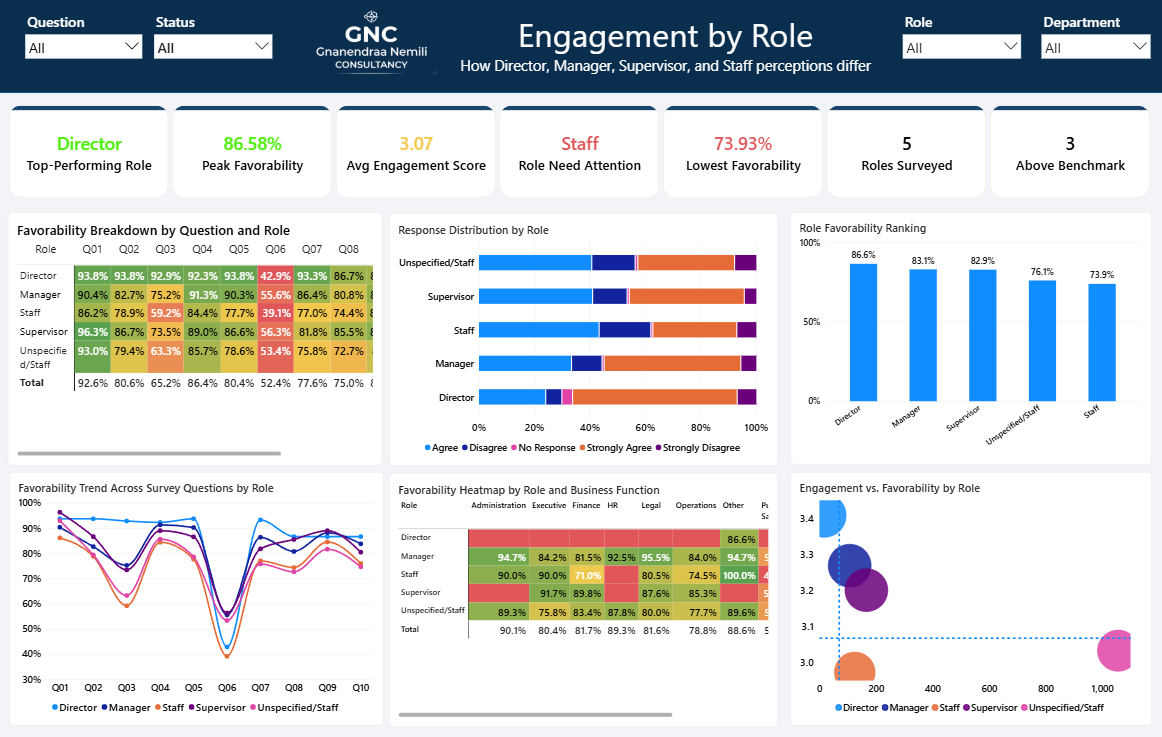

This screenshot's page, from the dashboard's own definition file:
{"tool":"powerbi","page":{"name":"Engagement by Role","canvas":[2110,1350],"ordinal":2},"visuals":[{"type":"shape","box":[0,0,2109.5,173.9],"z":0},{"type":"slicer","fields":{"Values":["HR Survey Reponses.Role"]},"box":[1630,27.3,223.6,119.3],"z":1000},{"type":"slicer","fields":{"Values":["HR Survey Reponses.Department"]},"box":[1880.9,27.3,206.2,119.3],"z":2000},{"type":"slicer","fields":{"Values":["HR Survey Reponses.Question"]},"box":[42.2,27.3,221.1,119.3],"z":3000},{"type":"slicer","fields":{"Values":["HR Survey Reponses.Status"]},"box":[275.8,27.3,223.6,119.3],"z":4000},{"type":"textbox","box":[832.4,27.3,747.9,119.3],"z":5000},{"type":"cardVisual","fields":{"Data":["HR Survey Reponses.Top-Performing Role","HR Survey Reponses.Peak Role Favorability","HR Survey Reponses.Avg Engagement Score","HR Survey Reponses.Role Needing Attention","HR Survey Reponses.Lowest Favorability Score","HR Survey Reponses.Roles Surveyed","HR Survey Reponses.Roles Above Benchmark"]},"box":[17.4,196.3,2069.8,166.5],"z":6000},{"type":"image","box":[499.4,9.9,347.9,151.6],"z":7000},{"type":"pivotTable","title":"Favorability Breakdown by Question and Role","fields":{"Columns":["HR Survey Reponses.Question Label (Padded)"],"Rows":["HR Survey Reponses.Role"],"Values":["HR Survey Reponses.% Favorable"]},"box":[16.6,390,677.8,459],"z":8000},{"type":"hundredPercentStackedBarChart","title":"Response Distribution by Role","fields":{"Category":["HR Survey Reponses.Role"],"Series":["HR Survey Reponses.Response Text"],"Y":["HR Survey Reponses.Total Responses"]},"box":[706.4,392.4,704,456.6],"z":9000},{"type":"columnChart","title":"Role Favorability Ranking","fields":{"Category":["HR Survey Reponses.Role"],"Y":["HR Survey Reponses.% Favorable"]},"box":[1431.7,390,654,456.6],"z":10000},{"type":"lineChart","title":"Favorability Trend Across Survey Questions by Role","fields":{"Category":["HR Survey Reponses.Question Label (Padded)"],"Series":["HR Survey Reponses.Role"],"Y":["HR Survey Reponses.% Favorable"]},"box":[17,859,678,459],"z":11000},{"type":"pivotTable","title":"Favorability Heatmap by Role and Business Function","fields":{"Columns":["HR Survey Reponses.Business Function"],"Rows":["HR Survey Reponses.Role"],"Values":["HR Survey Reponses.% Favorable"]},"box":[706.4,860.9,704,459],"z":12000},{"type":"scatterChart","title":"Engagement vs. Favorability by Role","fields":{"Series":["HR Survey Reponses.Role"],"Size":["HR Survey Reponses.% Favorable"],"X":["HR Survey Reponses.Distinct Respondents"],"Y":["HR Survey Reponses.Avg Engagement Score"]},"box":[1432,859,654,459],"z":13000}]}

Visuals, with their boxes in screenshot pixels (x1, y1, x2, y2), scaled from the page's 2110x1350 canvas onto the 1162x737 screenshot:
shape: <region>0, 0, 1161, 95</region>
slicer - HR Survey Reponses.Role: <region>898, 15, 1021, 80</region>
slicer - HR Survey Reponses.Department: <region>1036, 15, 1149, 80</region>
slicer - HR Survey Reponses.Question: <region>23, 15, 145, 80</region>
slicer - HR Survey Reponses.Status: <region>152, 15, 275, 80</region>
textbox: <region>458, 15, 870, 80</region>
cardVisual - HR Survey Reponses.Top-Performing Role x HR Survey Reponses.Peak Role Favorability: <region>10, 107, 1149, 198</region>
image: <region>275, 5, 467, 88</region>
"Favorability Breakdown by Question and Role" pivotTable: <region>9, 213, 382, 463</region>
"Response Distribution by Role" hundredPercentStackedBarChart: <region>389, 214, 777, 463</region>
"Role Favorability Ranking" columnChart: <region>788, 213, 1149, 462</region>
"Favorability Trend Across Survey Questions by Role" lineChart: <region>9, 469, 383, 720</region>
"Favorability Heatmap by Role and Business Function" pivotTable: <region>389, 470, 777, 721</region>
"Engagement vs. Favorability by Role" scatterChart: <region>789, 469, 1149, 720</region>
